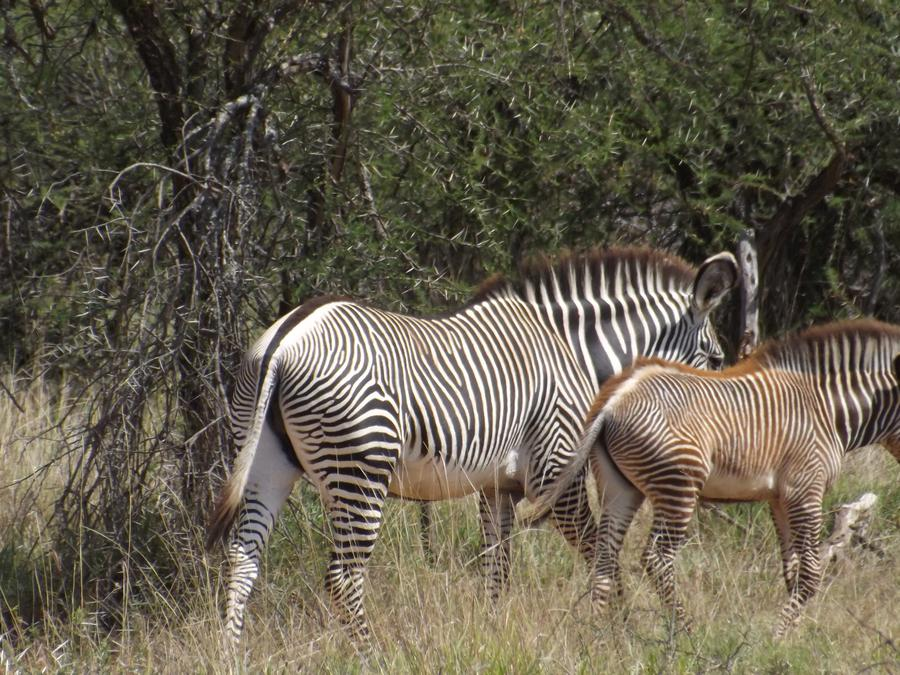zebra_grevys: (244, 280, 585, 474)
